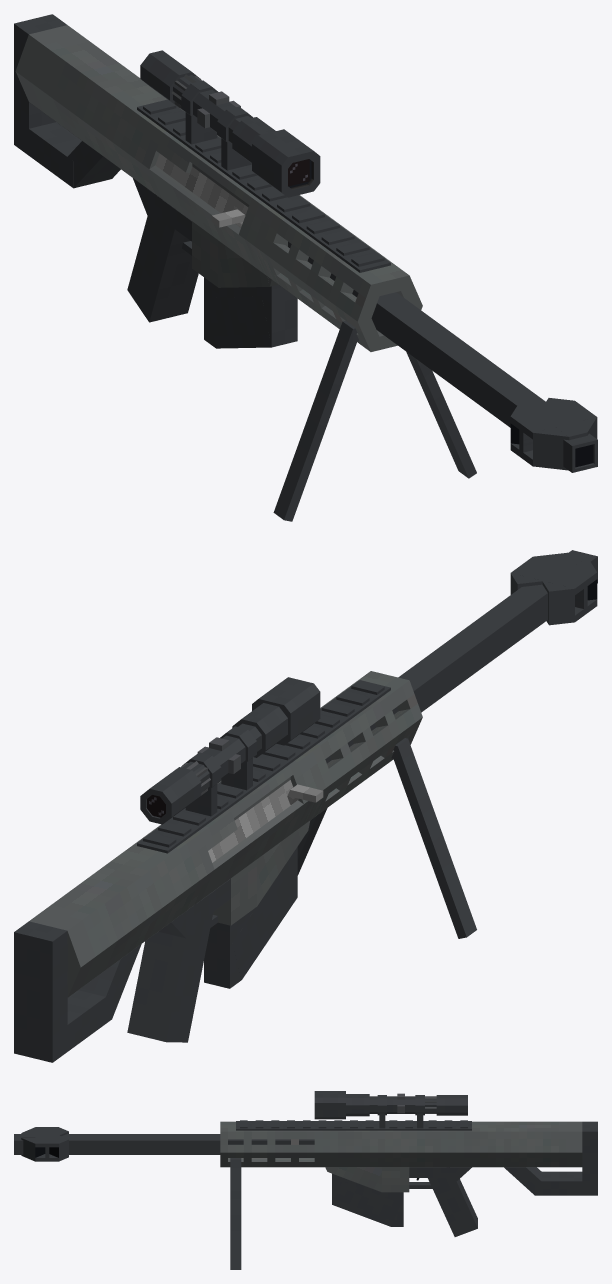
Rendered from heavy_sniper.gltf.
3 views of the same model, one above another, from view 1: azimuth 30°, elevation 25°; view 2: azimuth 150°, elevation 25°; view 3: azimuth 270°, elevation 25° (orthographic). The views are drawn at different scales.
Parts seen in each view (by area): view 1: top right of body (×7), barrel (×3), bottom right of body (×5), body top and bottom (×3), handle, body (×4), leg right, bottom of mag, top of mag, back of stock, leg left, middle of stock (+6 smaller); view 2: top right of body (×7), back of stock, barrel (×2), handle, bottom right of body (×4), body top and bottom (×3), body (×4), leg right, bottom of mag, middle of stock, muzzle body, back of mag cover (+6 smaller); view 3: top left of body (×3), barrel (×3), bottom left of body (×2), body (×5), body top and bottom (×3), handle, top right of body (×2), bottom of mag, leg left, bottom right of body (×2), back of stock, middle of stock (+9 smaller).
Part boxes in pixels (x1,y1,x2,y2): top right of body (×7): (15, 35, 382, 323); barrel (×3): (288, 241, 595, 471); bottom right of body (×5): (31, 83, 382, 351); body top and bottom (×3): (44, 36, 409, 297); handle: (127, 194, 198, 322); body (×4): (137, 99, 390, 272); leg right: (273, 321, 356, 521); bottom of mag: (206, 296, 271, 348); top of mag: (204, 277, 297, 347); back of stock: (14, 14, 66, 155); leg left: (406, 352, 476, 478); middle of stock: (29, 122, 81, 188); top right of body (×7): (67, 680, 422, 969); back of stock: (14, 921, 67, 1062); barrel (×2): (398, 551, 596, 712); handle: (127, 904, 213, 1042); bottom right of body (×4): (82, 717, 422, 986); body top and bottom (×3): (44, 671, 408, 981); body (×4): (137, 677, 390, 853); leg right: (393, 739, 476, 938); bottom of mag: (232, 862, 297, 979); middle of stock: (67, 990, 111, 1051); muzzle body: (511, 556, 597, 594); back of mag cover: (213, 859, 256, 925); top left of body (×3): (314, 1131, 582, 1152); barrel (×3): (15, 1134, 314, 1154); bottom left of body (×2): (314, 1152, 566, 1166); body (×5): (236, 1099, 471, 1130); body top and bottom (×3): (220, 1121, 566, 1167); handle: (428, 1167, 477, 1236); top right of body (×2): (220, 1131, 314, 1152); bottom of mag: (332, 1182, 400, 1226); leg left: (230, 1159, 241, 1269); bottom right of body (×2): (220, 1152, 314, 1166); back of stock: (582, 1121, 597, 1195); middle of stock: (535, 1171, 582, 1195).
Size of the model in its own units: 0.4688 by 0.6675 by 2.32.
10 materials, 9 textured.
